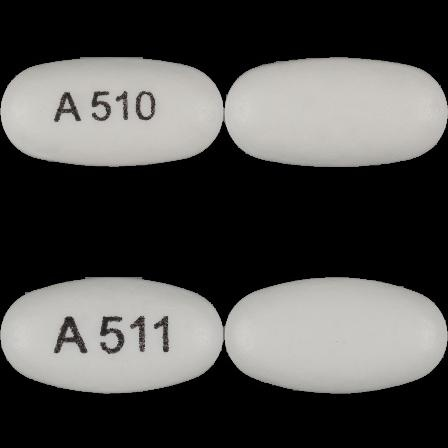10370-510: (0, 0, 224, 224)
